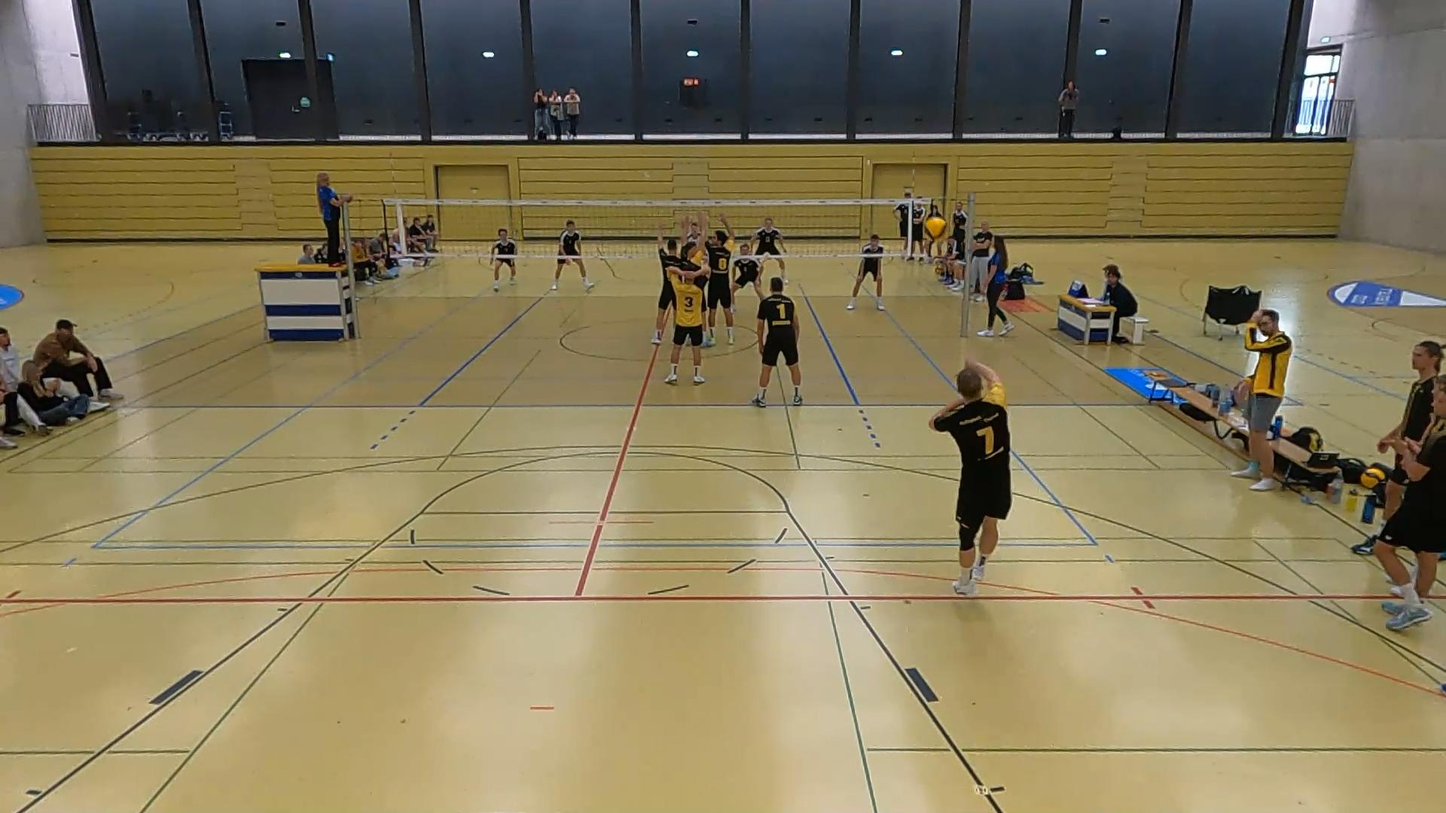battuta: (916, 352, 1032, 600)
